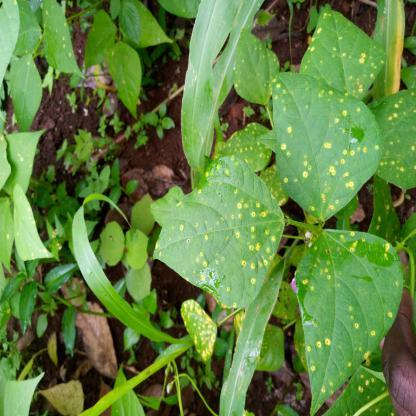Beans_Rust: (300, 218, 404, 408), (264, 69, 386, 220), (158, 176, 282, 300), (300, 12, 380, 104), (372, 88, 416, 191), (204, 122, 277, 181), (230, 25, 280, 107), (37, 0, 87, 77), (331, 364, 399, 414)
